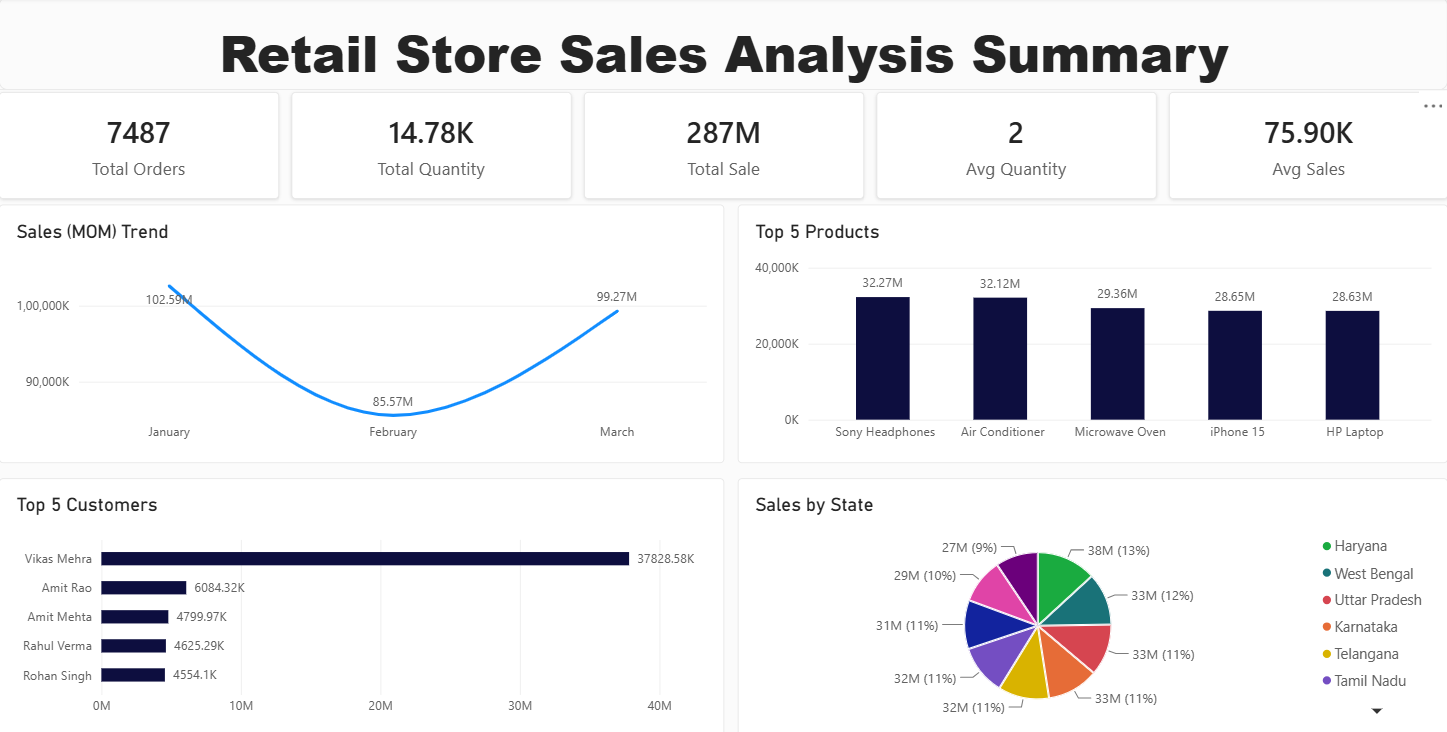

The page's visual inventory and layout, read from the dashboard file:
{"tool":"powerbi","page":{"name":"Summary","canvas":[1400,720],"ordinal":0},"visuals":[{"type":"lineChart","title":"Sales (MOM) Trend","fields":{"Category":["Sales Table.order_date.Variation.Date Hierarchy.Month"],"Y":["Sum(Sales Table.Total_revenue)"]},"box":[0,200.1,700.3,249.5],"z":0},{"type":"card","fields":{"Values":["Avg(Sales Table.Avg_revenue)"]},"box":[1129.2,91.7,270,103],"z":1000},{"type":"card","fields":{"Values":["Sum(Sales Table.Total_orders)"]},"box":[0,91.7,270,103],"z":2000},{"type":"card","fields":{"Values":["Sum(Sales Table.Total_quantity)"]},"box":[282.3,91.7,270,103],"z":3000},{"type":"card","fields":{"Values":["Sum(Sales Table.Total_revenue)"]},"box":[564.6,91.7,270,103],"z":4000},{"type":"card","fields":{"Values":["Avg(Sales Table.Avg_quantity)"]},"box":[846.9,91.7,270,103],"z":5000},{"type":"clusteredColumnChart","title":"Top 5 Products","fields":{"Category":["Sales Table.product_name"],"Y":["Sum(Sales Table.Total_revenue)"]},"box":[713.3,200.1,686.7,249.5],"z":6000},{"type":"clusteredBarChart","title":"Top 5 Customers","fields":{"Category":["Sales Table.customer_name"],"Y":["Sum(Sales Table.Total_revenue)"]},"box":[0,464.4,700.3,249.5],"z":7000},{"type":"pieChart","title":"Sales by State","fields":{"Category":["Sales Table.state"],"Y":["Sum(Sales Table.Total_revenue)"]},"box":[713.3,464.4,686.7,249.5],"z":8000},{"type":"textbox","box":[0,0,1399.5,89.3],"z":9000,"group":"g1"},{"type":"group","id":"g1","title":"Top alignment","box":[0,0,1399.5,89.3],"z":13000}]}

Visuals, with their boxes in screenshot pixels (x1, y1, x2, y2), scaled from the page's 1400x720 canvas onto the 1447x732 screenshot:
"Sales (MOM) Trend" lineChart: rect(0, 203, 724, 457)
card - Avg(Sales Table.Avg_revenue): rect(1167, 93, 1446, 198)
card - Sum(Sales Table.Total_orders): rect(0, 93, 279, 198)
card - Sum(Sales Table.Total_quantity): rect(292, 93, 571, 198)
card - Sum(Sales Table.Total_revenue): rect(584, 93, 863, 198)
card - Avg(Sales Table.Avg_quantity): rect(875, 93, 1154, 198)
"Top 5 Products" clusteredColumnChart: rect(737, 203, 1446, 457)
"Top 5 Customers" clusteredBarChart: rect(0, 472, 724, 726)
"Sales by State" pieChart: rect(737, 472, 1446, 726)
textbox: rect(0, 0, 1446, 91)
"Top alignment" group: rect(0, 0, 1446, 91)
